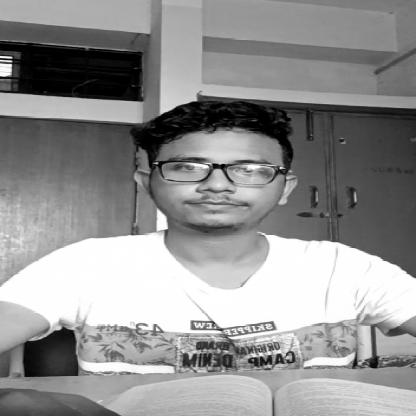Normal: (138, 102, 301, 235)
